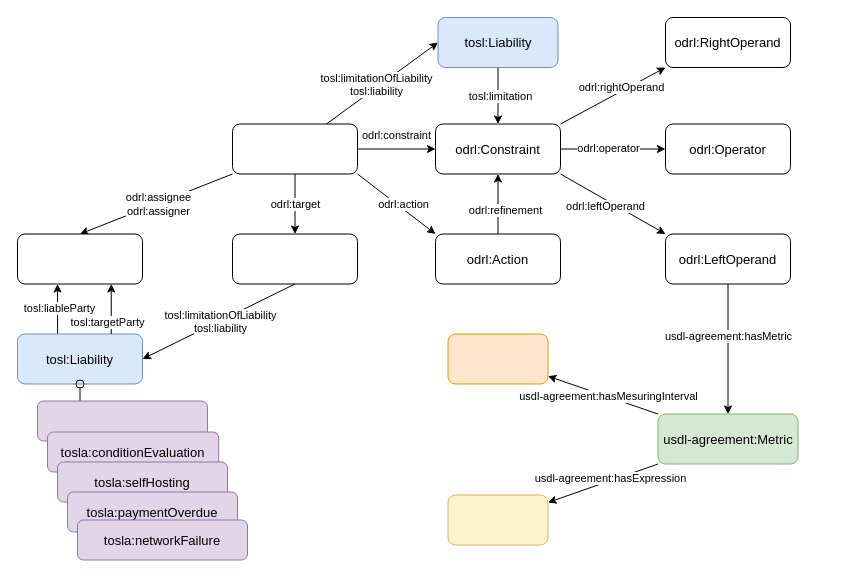
Image size: 865x578. Some labels were removed from this diagram. Here are the shapes that lost their labels. From the top down, the centre of each, then its label:
At [295,148]: "odrl:Rule".
At [79,258]: "odrl:Party".
At [295,258]: "odrl:Asset".
At [497,358]: "time:Interval".
At [122,420]: "tosla:metricComputation".
At [497,519]: "rdfs:Resource".
